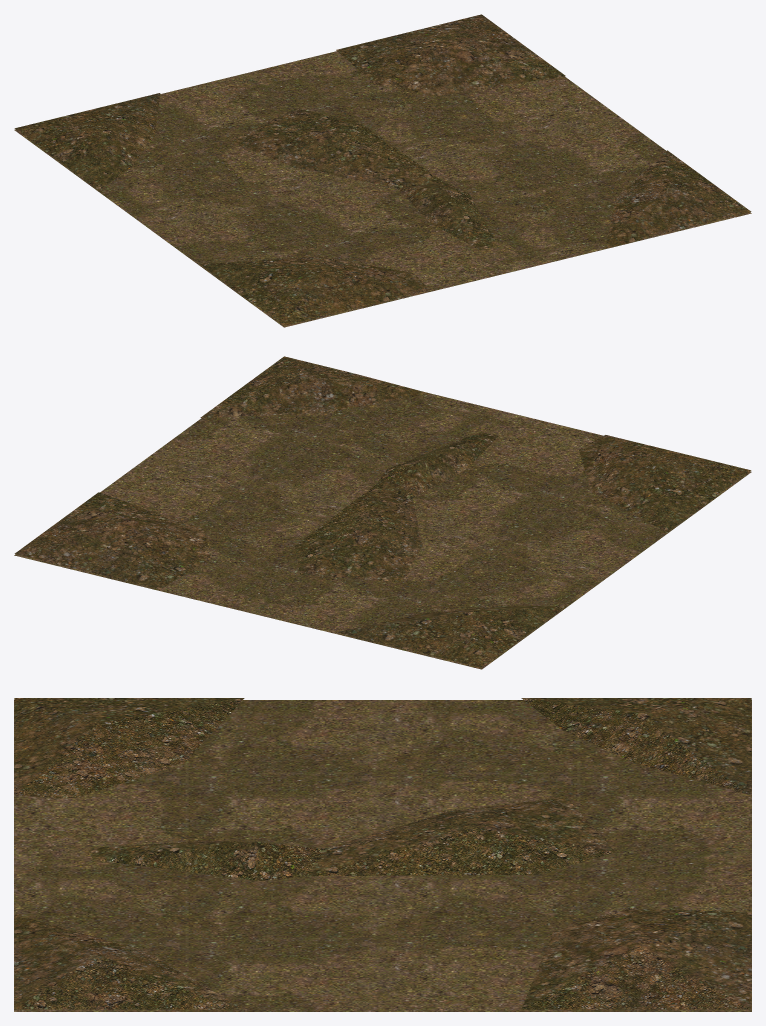
File: Garden_05_Art.fbx
3 renders of one model, top to bottom at view 1: azimuth 30°, elevation 25°; view 2: azimuth 150°, elevation 25°; view 3: azimuth 270°, elevation 25°, orthographic. The views are drawn at different scales.
Parts seen in each view (by area): view 1: Garden_05_Art; view 2: Garden_05_Art; view 3: Garden_05_Art.
Part boxes in pixels (x1=…): Garden_05_Art: x1=14, y1=14, x2=751, y2=327; Garden_05_Art: x1=14, y1=356, x2=751, y2=669; Garden_05_Art: x1=14, y1=698, x2=751, y2=1011.
Size of the model in its own units: 1598 by 50.07 by 1598.
